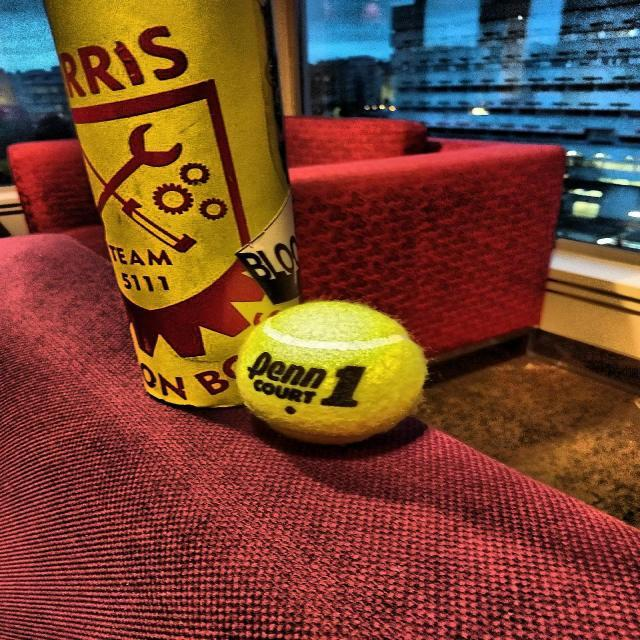tennis-ball: (237, 298, 431, 454)
